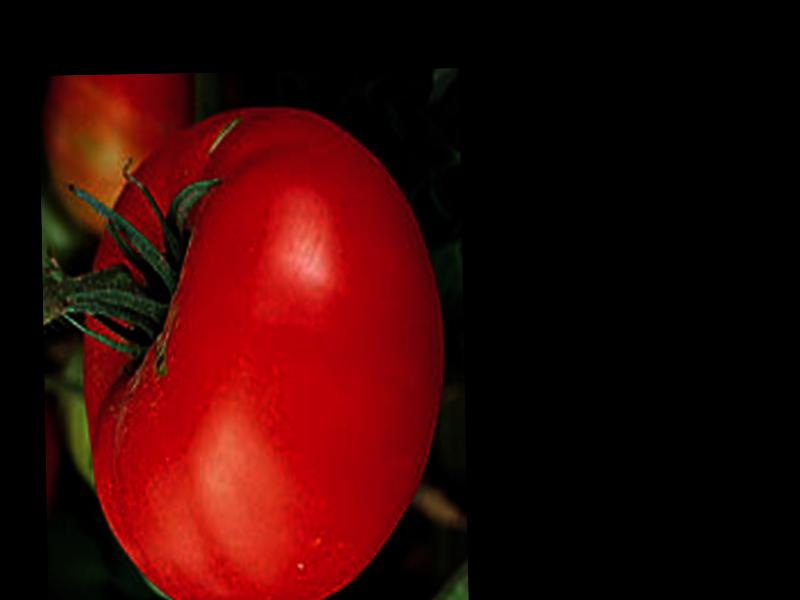Tomato: (80, 107, 449, 600)
